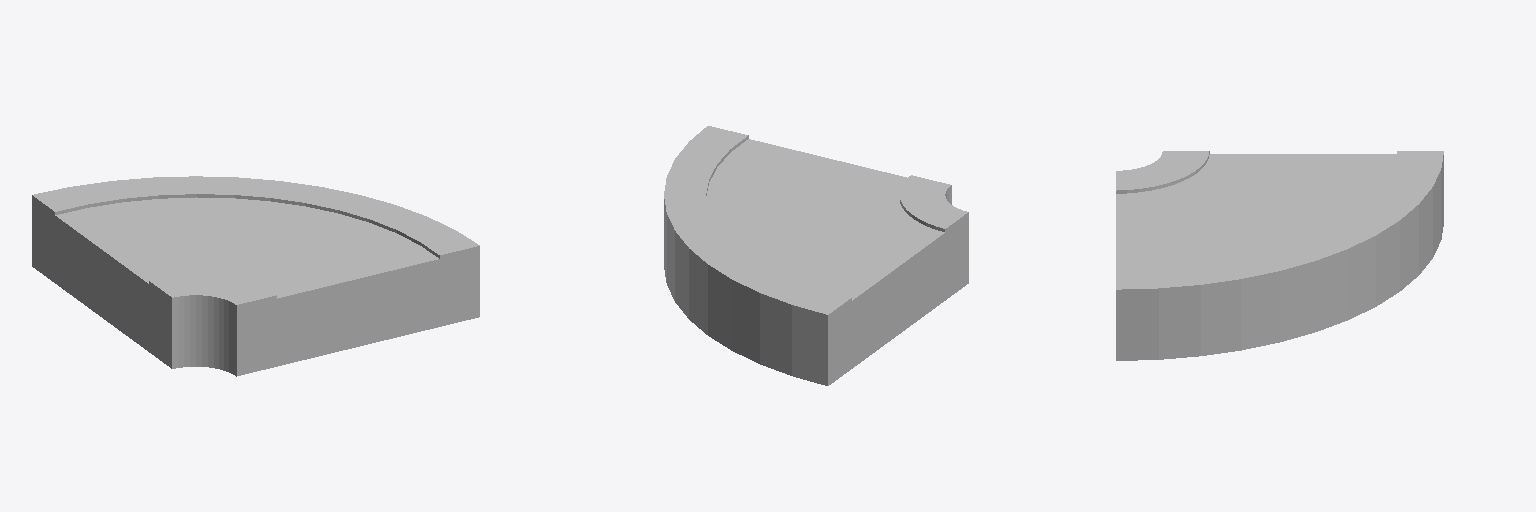
Rendered from tile107.obj.
3 views of the same model, side by side, from view 1: azimuth 30°, elevation 25°; view 2: azimuth 150°, elevation 25°; view 3: azimuth 270°, elevation 25° (orthographic).
Visible parts, largest first — view 1: tile107; view 2: tile107; view 3: tile107.
Boxes of the visible parts, x1=… form: tile107: x1=32, y1=176, x2=479, y2=376; tile107: x1=664, y1=126, x2=968, y2=385; tile107: x1=1116, y1=151, x2=1443, y2=360.
Size of the model in its own units: 0.875 by 0.21 by 0.875.